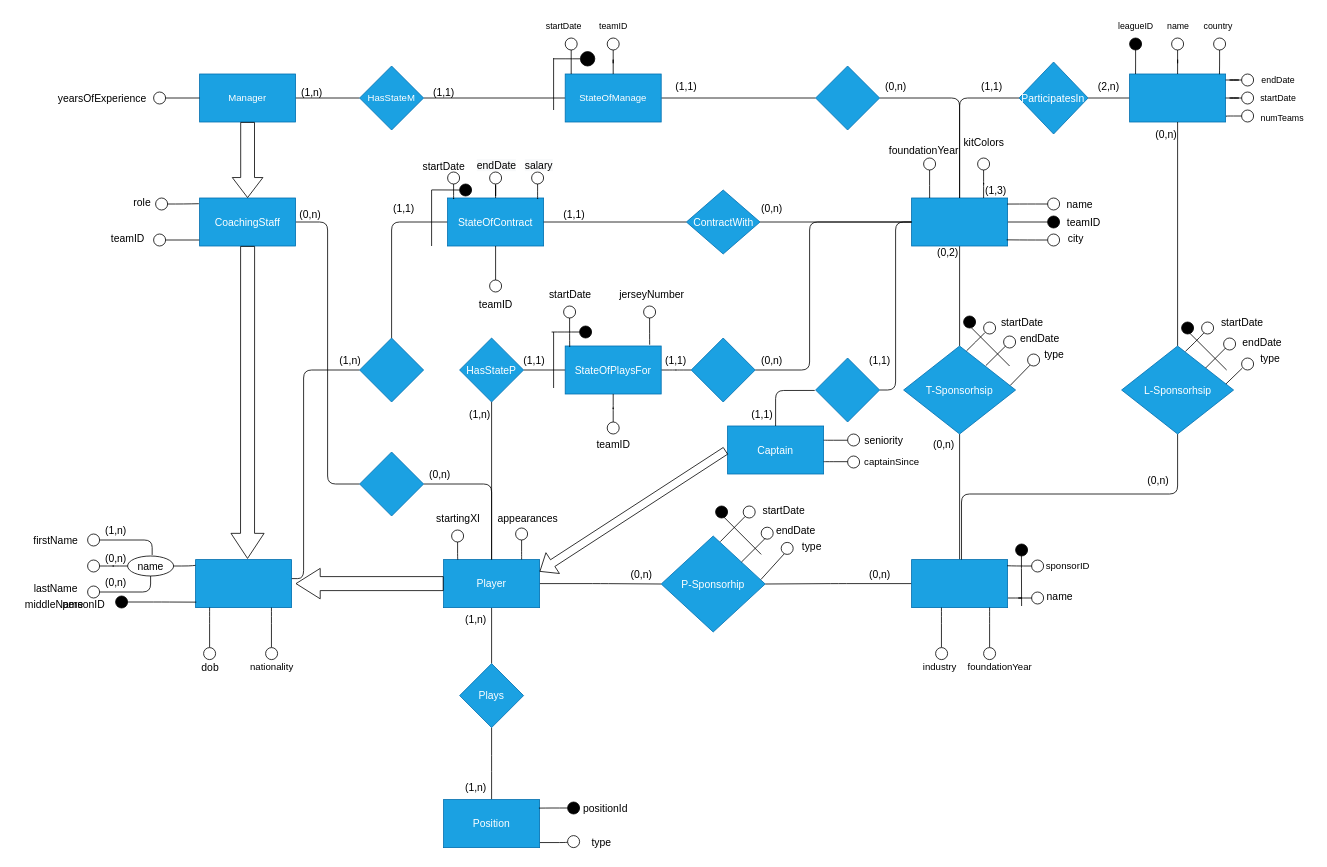
Some shapes in this 1327 by 867 pixel diagram are drawn without their labels. Here are the shapes that lost their labels. From the top down, the box of each, then its label:
(815, 65, 880, 130): Manages
(1129, 73, 1226, 122): League
(911, 197, 1008, 246): Team
(359, 337, 424, 402): HasStateC
(690, 337, 755, 402): PlaysFor
(815, 357, 880, 422): Leads
(359, 451, 424, 516): Trains
(195, 559, 292, 608): Person
(911, 559, 1008, 608): Sponsor
